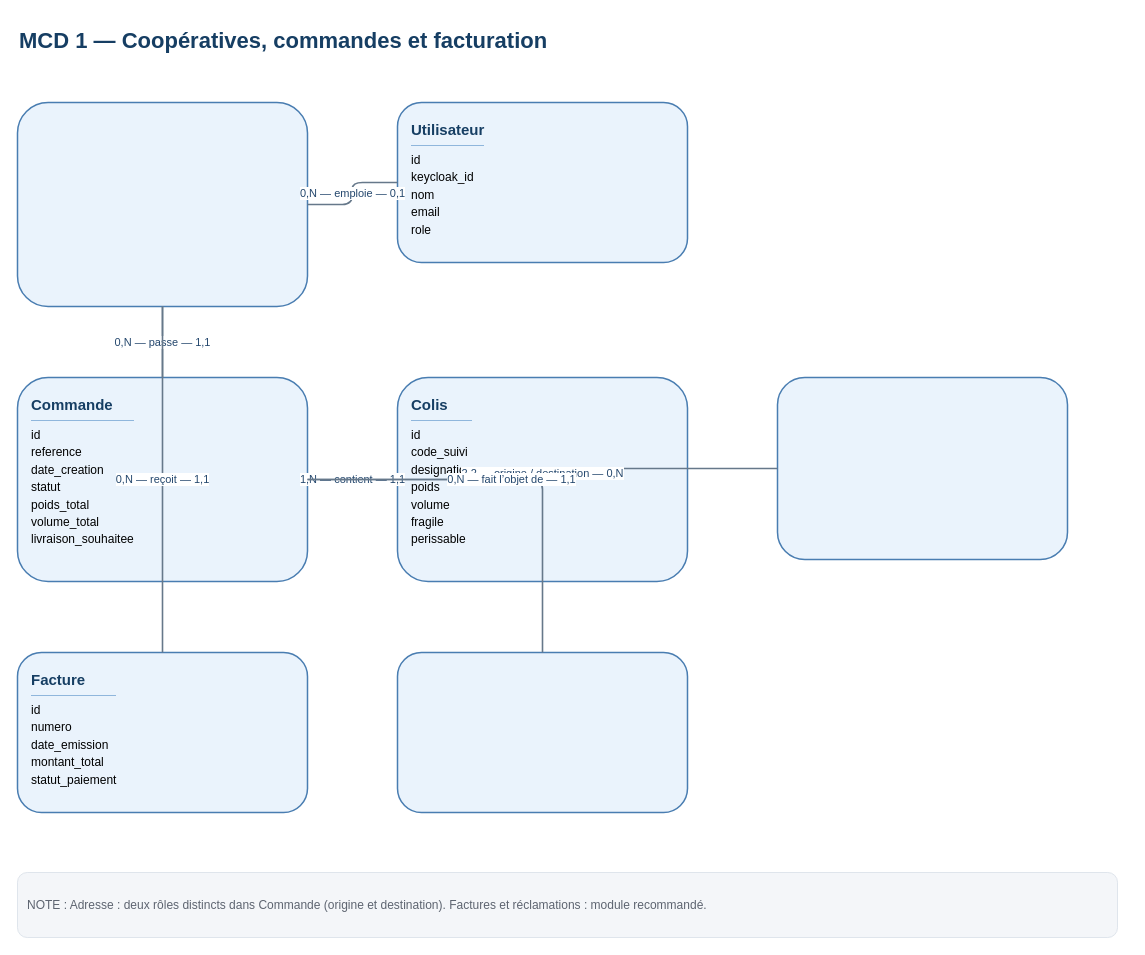
The diagram is 1145 pixels wide and 955 high, and some of its shapes have lost their labels. Here are the shapes that lost their labels. From the top down, the centre of each, then its label:
At point 162,204: "Cooperative id (PK conceptuelle) nom ICE adresse_siege ville telephone statut".
At point 922,468: "Adresse id libelle ville latitude longitude contact".
At point 542,732: "Reclamation id type description statut date_creation".
